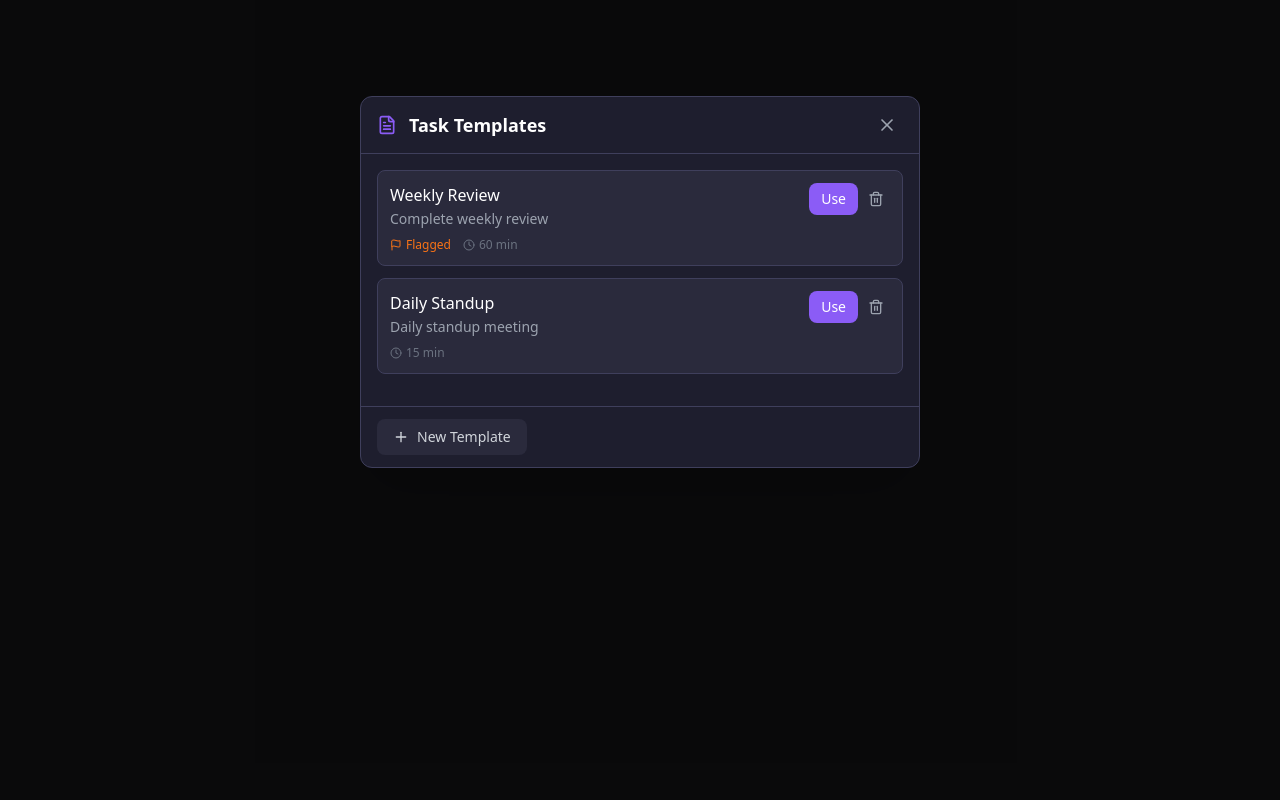
it: TaskTemplates › should show new template form
Click the button "New Template" at (452, 437), box left=377, top=419, right=527, bottom=455
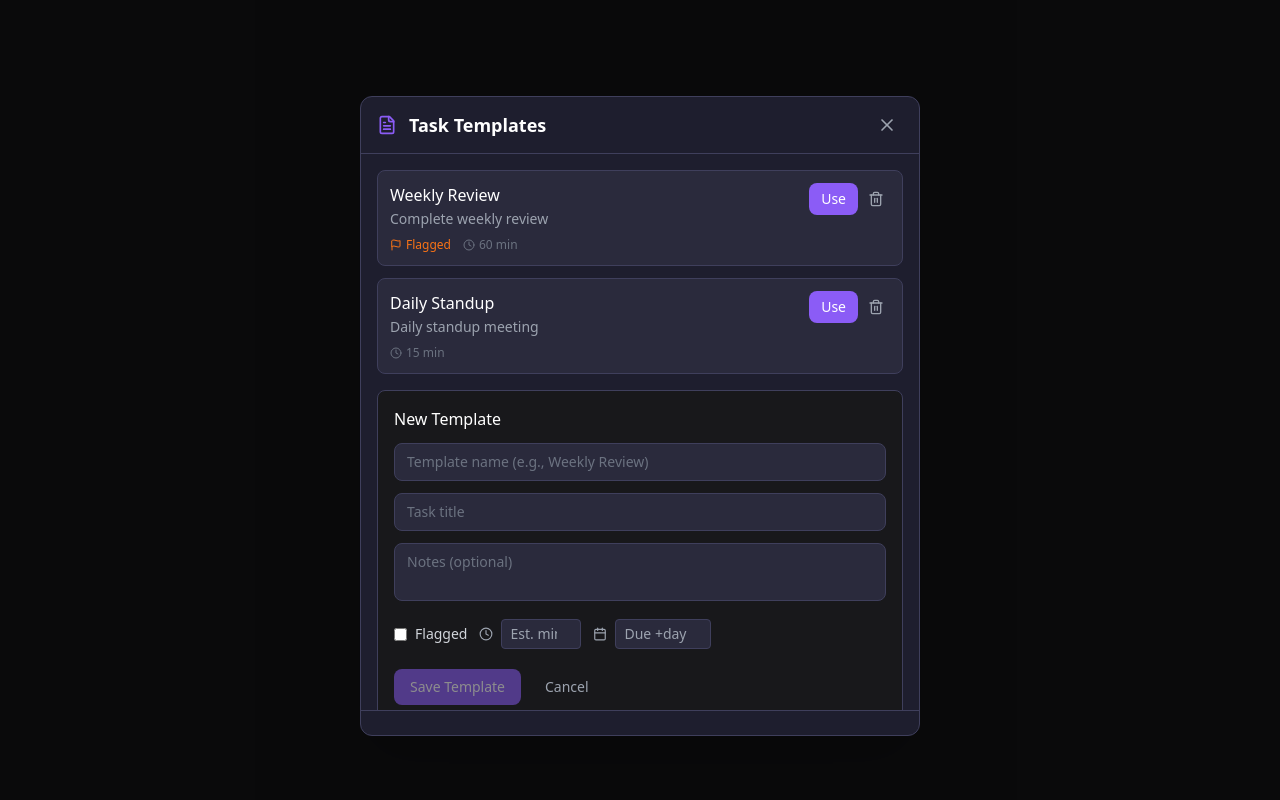
expect the field with placeholder "Template name (e.g., Weekly Review)" is shown: met, box left=394, top=443, right=886, bottom=481
expect the field with placeholder "Task title" is shown: met, box left=394, top=493, right=886, bottom=531
